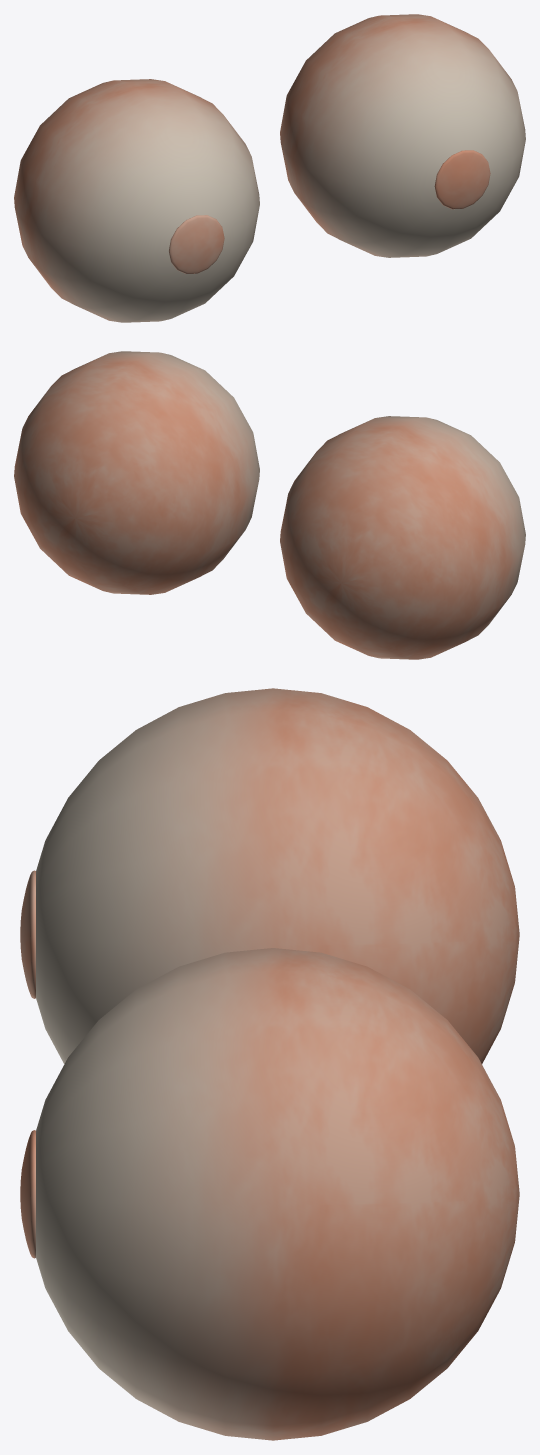
Rendered from seed02_eye.fbx.
The picture shows the model from 3 angles, top to bottom: view 1: azimuth 30°, elevation 25°; view 2: azimuth 150°, elevation 25°; view 3: azimuth 270°, elevation 25°; orthographic projection. The views are drawn at different scales.
Parts seen in each view (by area): view 1: msh_eye_L, msh_eye_R, msh_pupil_L, msh_pupil_R; view 2: msh_eye_L, msh_eye_R; view 3: msh_eye_L, msh_eye_R, msh_pupil_L, msh_pupil_R.
Boxes of the visible parts, x1=… form: msh_eye_L: x1=280, y1=14, x2=525, y2=257; msh_eye_R: x1=14, y1=79, x2=259, y2=322; msh_pupil_L: x1=434, y1=150, x2=490, y2=209; msh_pupil_R: x1=169, y1=215, x2=224, y2=273; msh_eye_L: x1=14, y1=351, x2=259, y2=594; msh_eye_R: x1=280, y1=416, x2=525, y2=659; msh_eye_L: x1=36, y1=948, x2=519, y2=1440; msh_eye_R: x1=36, y1=688, x2=519, y2=1063; msh_pupil_L: x1=20, y1=1130, x2=35, y2=1258; msh_pupil_R: x1=20, y1=870, x2=35, y2=998.
Bounding box in the file's own units: 10.67 × 4.75 × 4.82.
2 materials, 2 textured.
